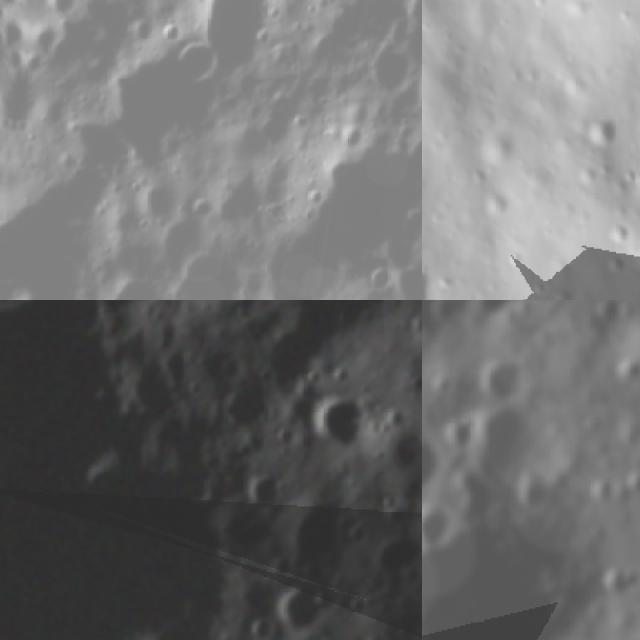crater: (422, 516, 592, 640), (93, 44, 228, 168), (459, 391, 551, 486), (49, 109, 146, 180), (160, 237, 266, 300), (192, 0, 278, 72), (206, 168, 278, 238), (474, 342, 541, 414), (274, 506, 344, 574), (358, 35, 422, 107), (172, 27, 231, 98), (306, 389, 373, 451), (133, 175, 194, 230), (274, 583, 330, 640), (367, 532, 422, 589), (217, 382, 275, 434), (90, 261, 164, 300), (0, 273, 99, 300), (422, 426, 459, 498), (596, 555, 640, 609), (238, 467, 284, 512), (422, 497, 457, 555), (577, 101, 619, 149), (459, 300, 524, 331), (389, 251, 422, 300), (588, 300, 632, 332), (363, 260, 394, 300), (586, 472, 618, 510), (72, 0, 152, 12), (624, 456, 640, 505), (245, 617, 278, 640), (627, 225, 640, 282)
